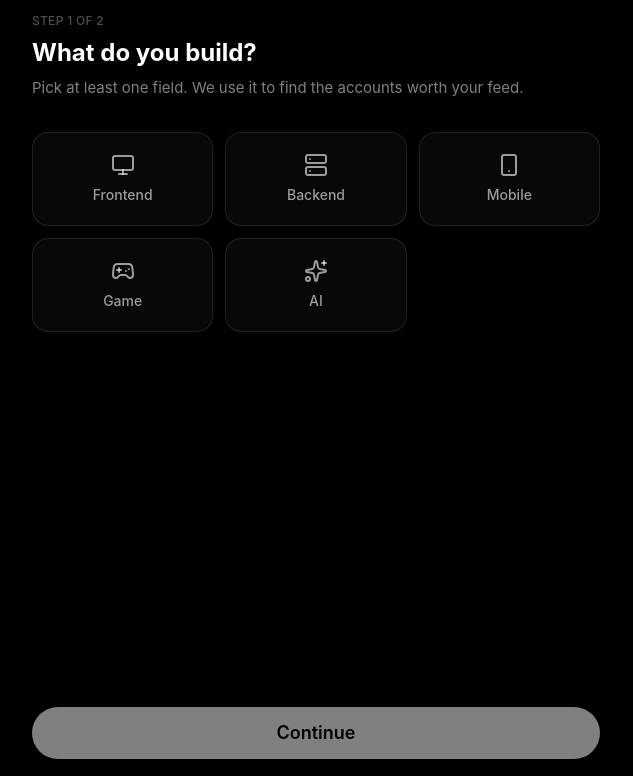
Test: OnboardingPage › lets the user out when the suggestions never arrived
Click the button "Backend": (316, 178) [225, 132, 407, 226]
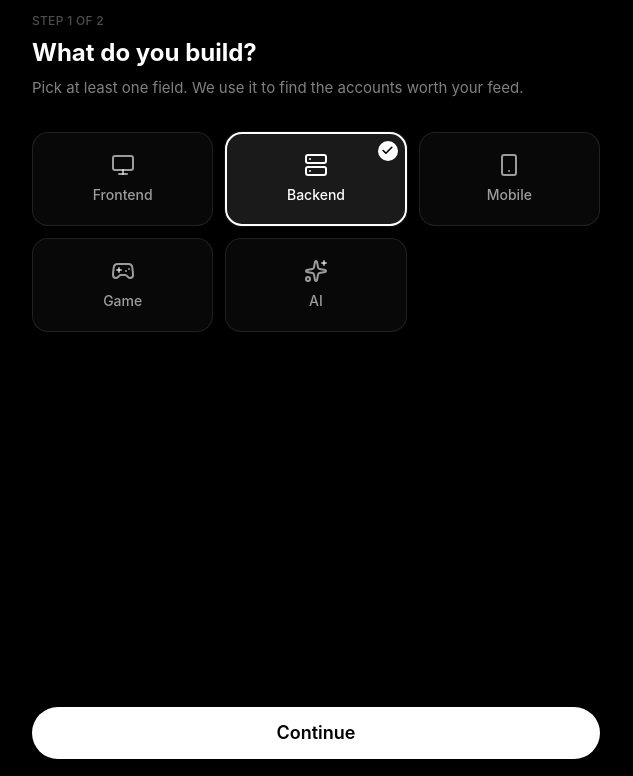
Click the button "Continue": (316, 733) [32, 707, 600, 759]
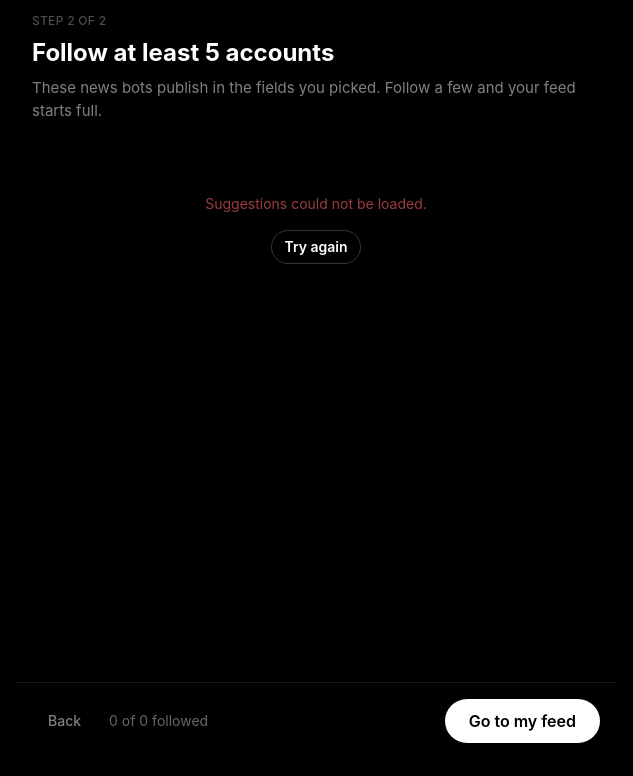
expect the button "Go to my feed" is enabled: met, box [445, 699, 600, 743]
expect the button "Try again" is shown: met, box [272, 230, 361, 264]
